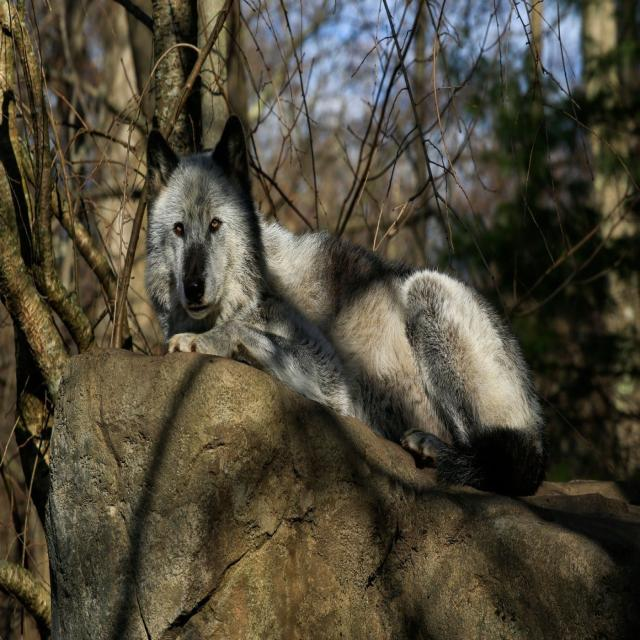Wolf: (143, 112, 546, 498)
